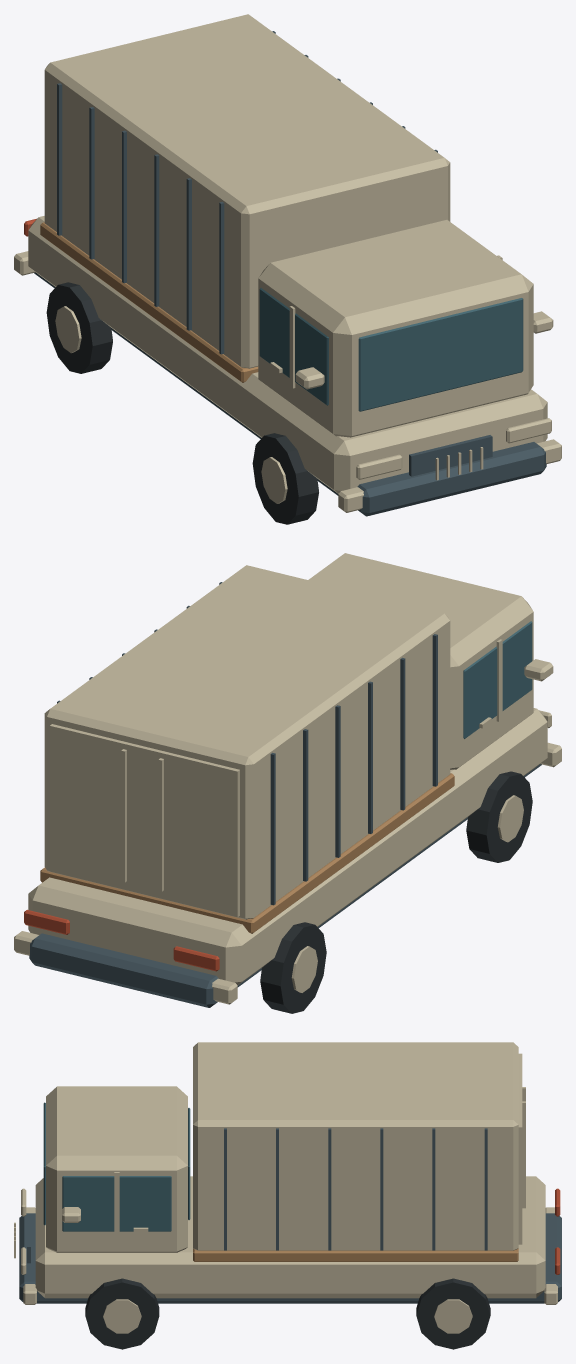
File: vehicle_box.glb
3 renders of one model, top to bottom at view 1: azimuth 30°, elevation 25°; view 2: azimuth 150°, elevation 25°; view 3: azimuth 270°, elevation 25°, orthographic. The views are drawn at different scales.
Visible parts, largest first — view 1: vehicle_box; view 2: vehicle_box; view 3: vehicle_box.
Boxes of the visible parts, x1,y1,x2,y2 form: vehicle_box: (14,14,561,524); vehicle_box: (14,553,561,1013); vehicle_box: (14,1042,561,1349).
Bounding box in the file's own units: 2.68 × 2.85 × 6.36.
